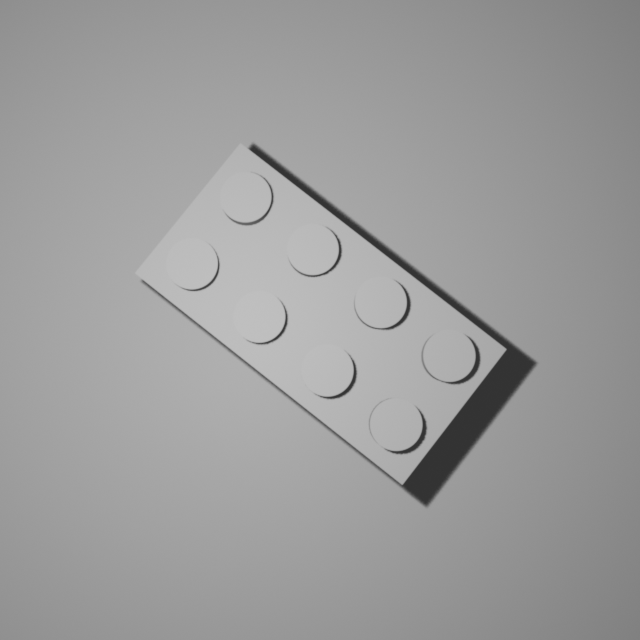lego_2x4: (131, 138, 510, 487)
